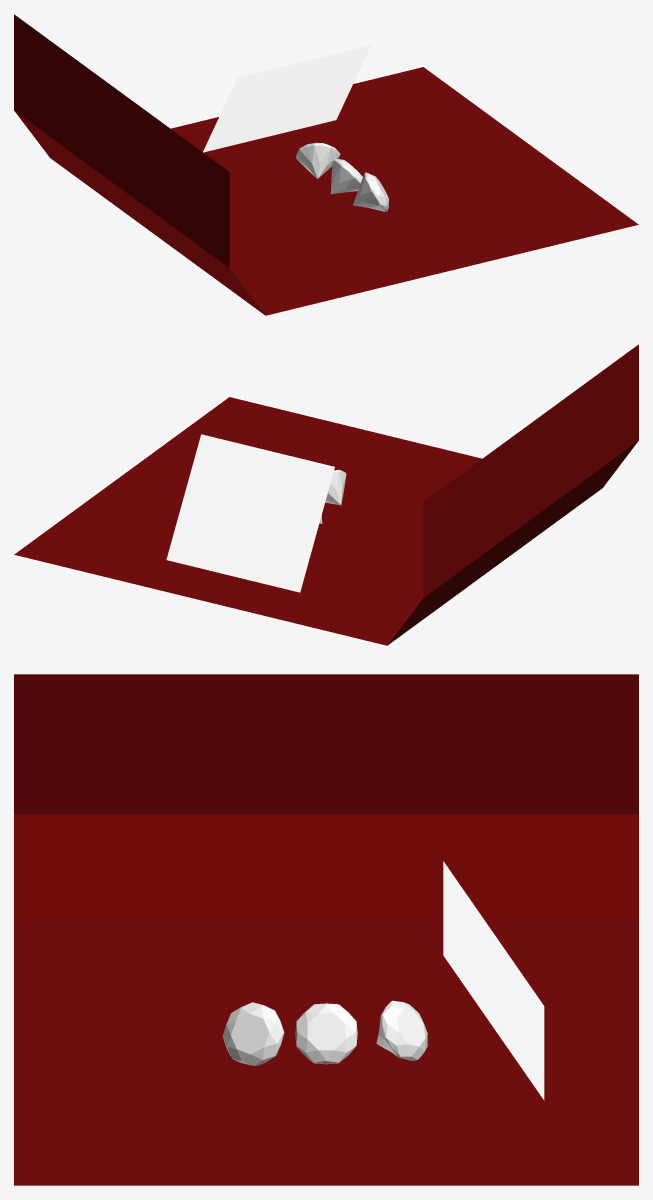
File: Diamantes.glb
The picture shows the model from 3 angles, top to bottom: view 1: azimuth 30°, elevation 25°; view 2: azimuth 150°, elevation 25°; view 3: azimuth 270°, elevation 25°; orthographic projection. The views are drawn at different scales.
Visible parts, largest first — view 1: Plane, Plane.001, Cylinder.002, Cylinder.001, Cylinder; view 2: Plane, Plane.001, Cylinder.001; view 3: Plane, Plane.001, Cylinder, Cylinder.001, Cylinder.002.
Boxes of the visible parts, left/top/right/bottom form: Plane: left=14, top=14, right=638, bottom=315; Plane.001: left=203, top=45, right=370, bottom=152; Cylinder.002: left=296, top=142, right=340, bottom=178; Cylinder.001: left=353, top=172, right=388, bottom=211; Cylinder: left=330, top=158, right=362, bottom=193; Plane: left=14, top=344, right=638, bottom=645; Plane.001: left=166, top=434, right=334, bottom=592; Cylinder.001: left=325, top=469, right=346, bottom=505; Plane: left=14, top=674, right=638, bottom=1185; Plane.001: left=443, top=861, right=544, bottom=1100; Cylinder: left=295, top=1003, right=357, bottom=1064; Cylinder.001: left=222, top=1002, right=284, bottom=1065; Cylinder.002: left=376, top=1000, right=427, bottom=1060.
Size of the model in its own units: 2.19 by 0.875 by 2.
